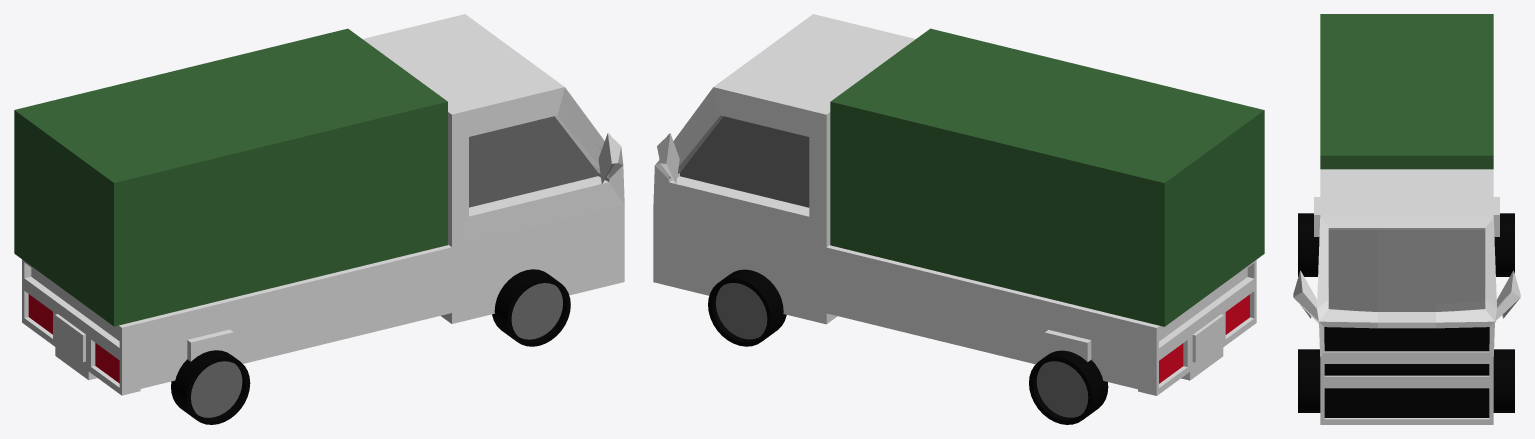
The model's file is truck.fbx.
3 views of the same model, side by side, from view 1: azimuth 30°, elevation 25°; view 2: azimuth 150°, elevation 25°; view 3: azimuth 270°, elevation 25° (orthographic). The views are drawn at different scales.
Visible parts, largest first — view 1: トラック; view 2: トラック; view 3: トラック.
Boxes of the visible parts, x1=… form: トラック: x1=14, y1=14, x2=624, y2=424; トラック: x1=653, y1=14, x2=1264, y2=424; トラック: x1=1293, y1=14, x2=1520, y2=424.
Bounding box in the file's own units: 591 × 281 × 262.
